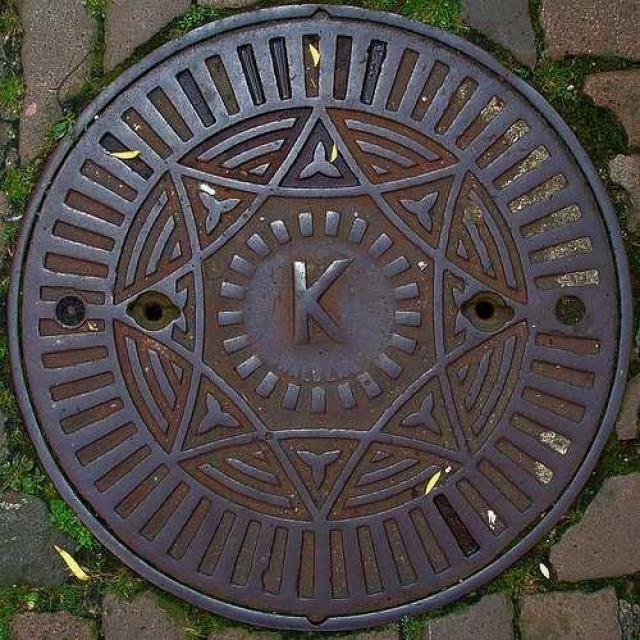manhole: (10, 5, 633, 629)
